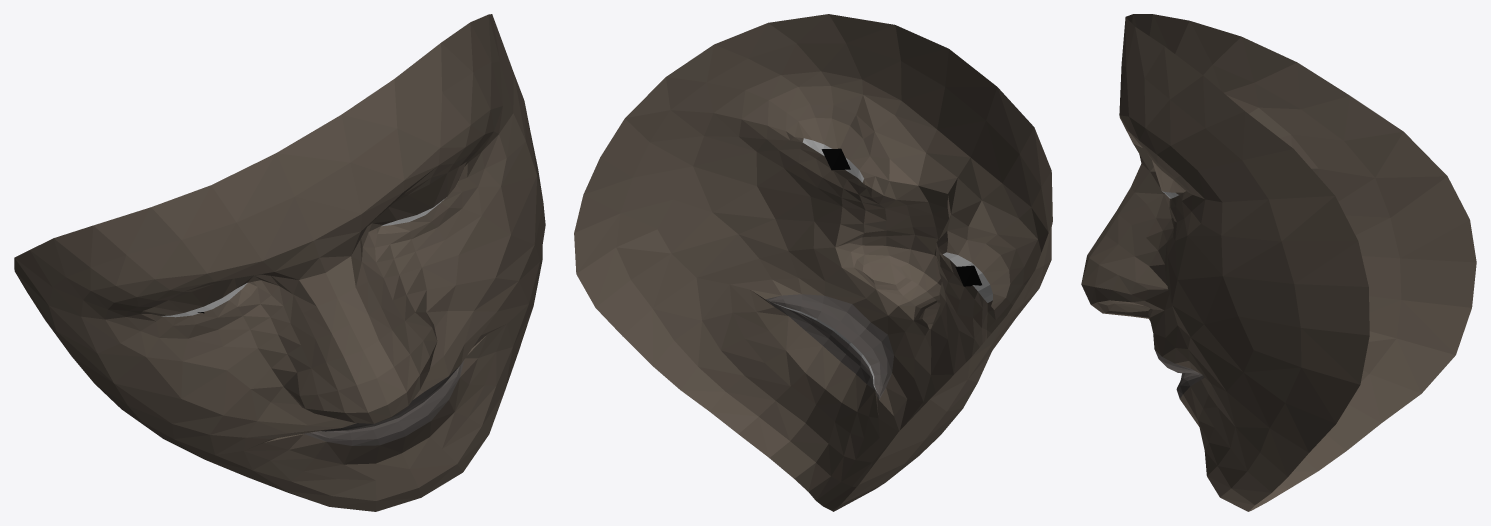
The model's file is frame_00272.obj.
The picture shows the model from 3 angles, left to right: view 1: azimuth 30°, elevation 25°; view 2: azimuth 150°, elevation 25°; view 3: azimuth 270°, elevation 25°; orthographic projection. The views are drawn at different scales.
Visible parts, largest first — view 1: face_model_with_iris; view 2: face_model_with_iris; view 3: face_model_with_iris.
Part boxes in pixels (left/top/right/bottom): face_model_with_iris: left=14, top=14, right=545, bottom=511; face_model_with_iris: left=574, top=14, right=1052, bottom=511; face_model_with_iris: left=1081, top=14, right=1476, bottom=511.
Size of the model in its own units: 0.5663 by 0.5378 by 0.4162.
